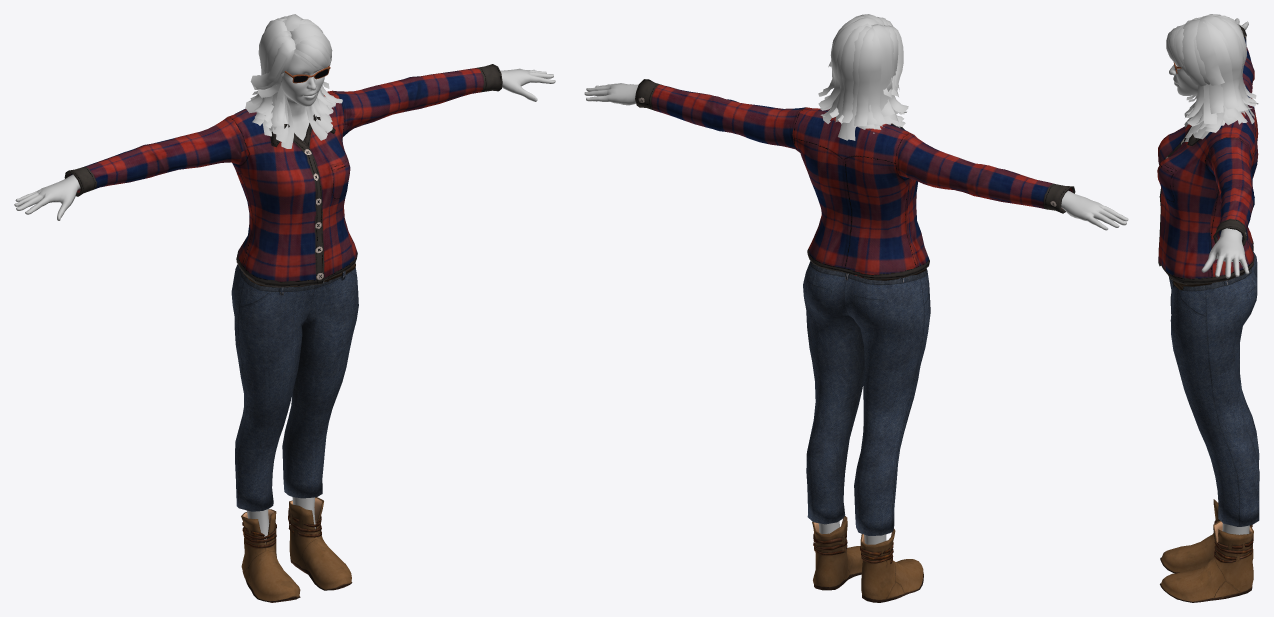
Rendered from girl1.obj.
3 renders of one model, left to right at view 1: azimuth 30°, elevation 25°; view 2: azimuth 150°, elevation 25°; view 3: azimuth 270°, elevation 25°, orthographic.
Visible parts, largest first — view 1: Tops, Bottoms, Hair, Shoes, Body; view 2: Tops, Bottoms, Hair, Shoes, Body; view 3: Bottoms, Tops, Hair, Shoes, Body.
Boxes of the visible parts, x1,y1,x2,y2 form: Tops: (64, 64, 502, 287); Bottoms: (231, 263, 358, 511); Hair: (245, 14, 342, 148); Shoes: (241, 497, 352, 602); Body: (14, 53, 555, 542); Tops: (635, 79, 1075, 279); Bottoms: (803, 261, 930, 535); Hair: (818, 14, 908, 140); Shoes: (812, 516, 923, 602); Body: (584, 83, 1128, 544); Bottoms: (1169, 251, 1259, 526); Tops: (1157, 24, 1258, 284); Hair: (1166, 14, 1258, 141); Shoes: (1160, 499, 1253, 602); Body: (1169, 17, 1249, 534).
Bounding box in the file's own units: 179 × 180 × 29.51.
